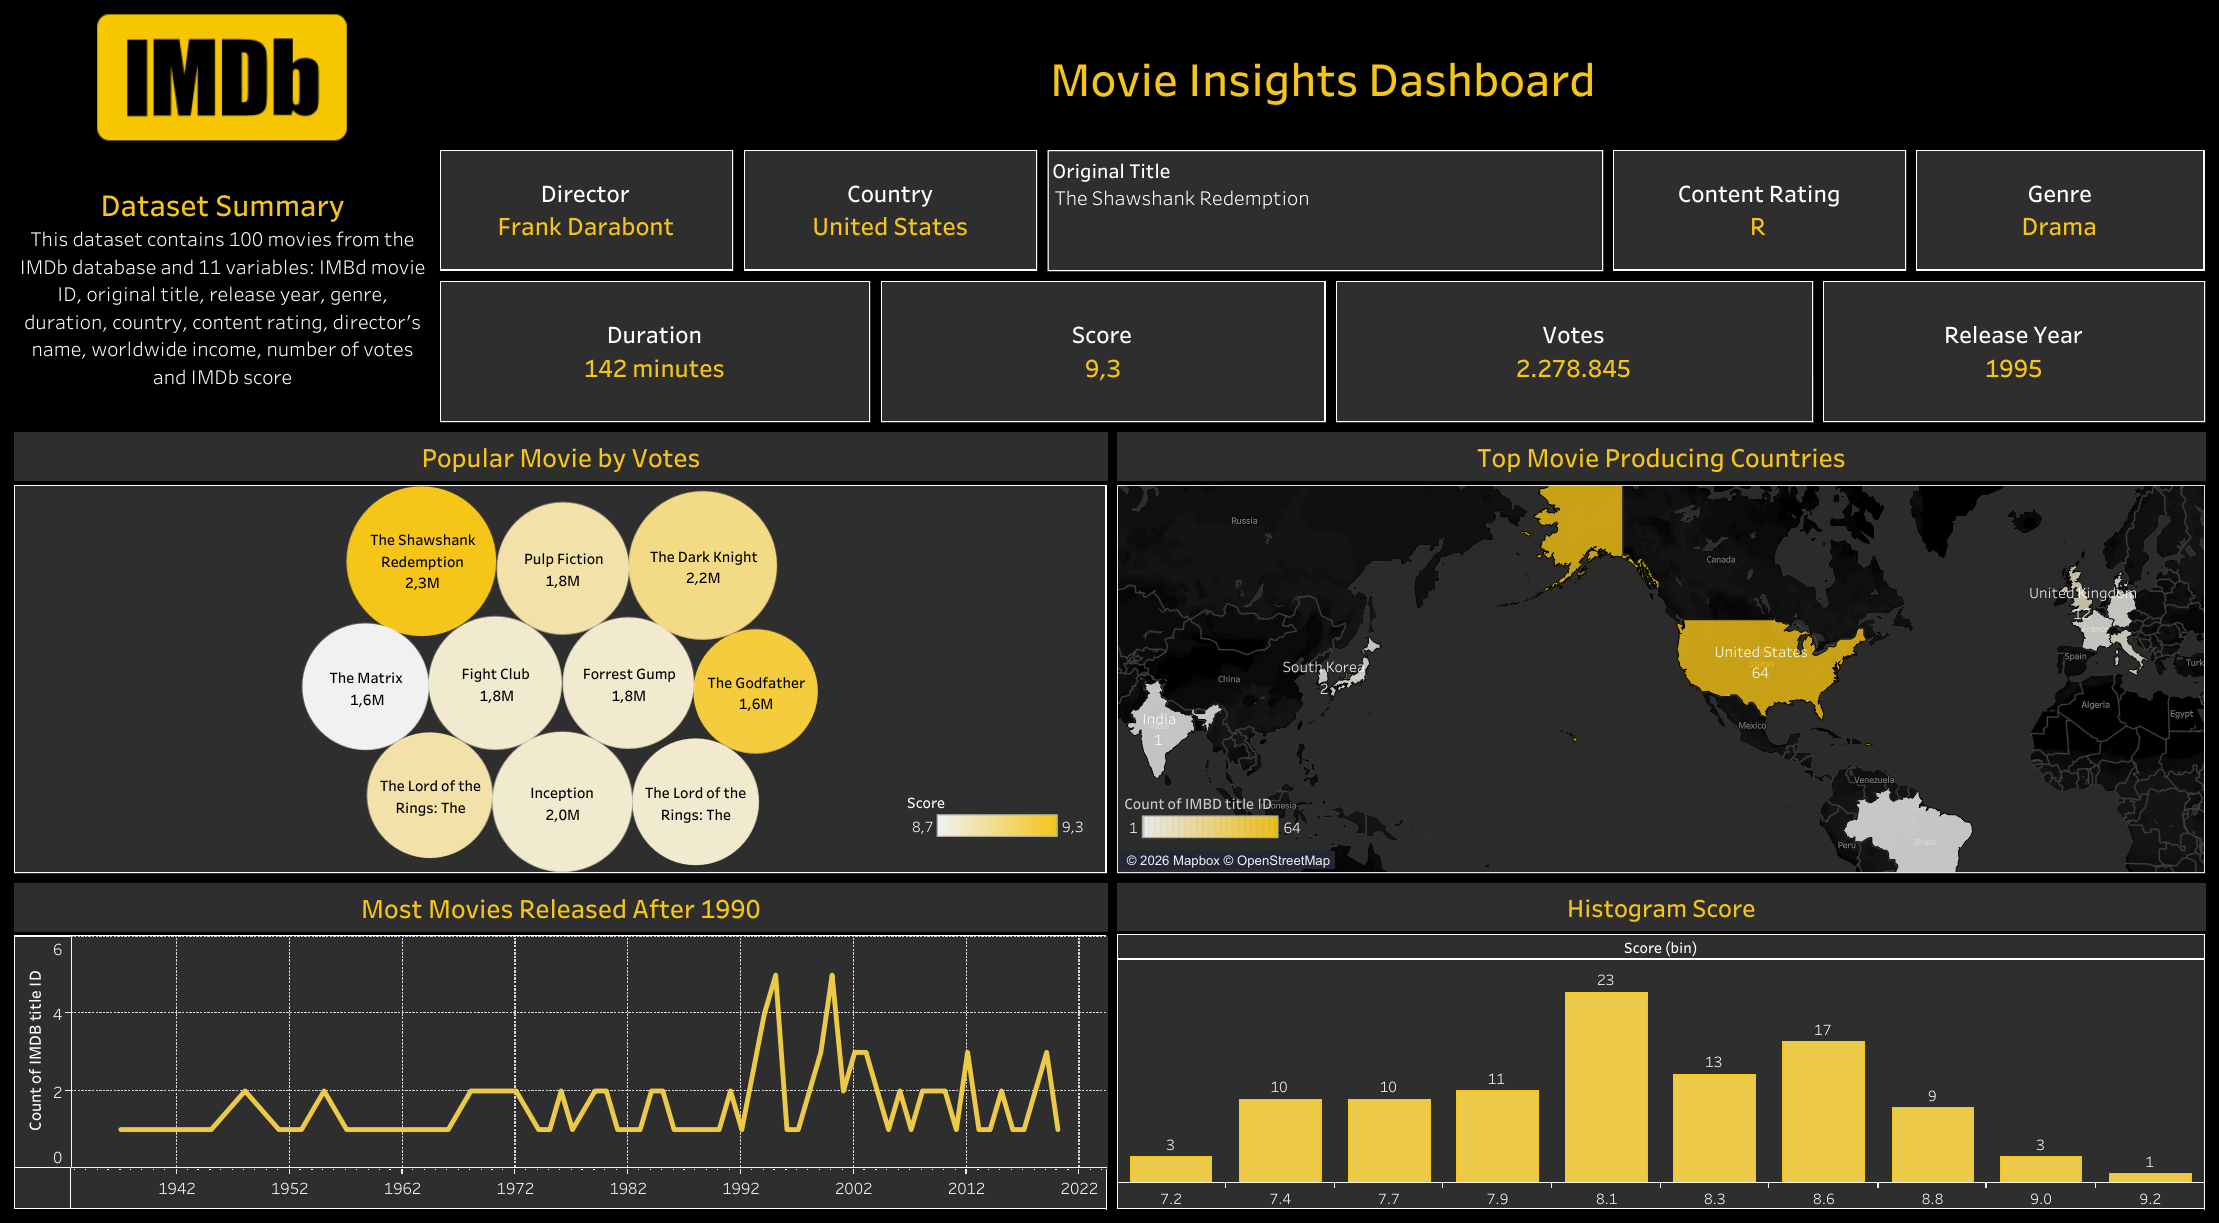

Layout of this report page (visuals, bound fields, positions):
{"tool":"tableau","page":{"name":"Dashboard 1","canvas":[1850,1020],"ordinal":0},"visuals":[{"type":"image","param":"Image/IMDB_Logo_2016.svg","box":[8,8,355,113]},{"type":"text","box":[363,8,1479,113]},{"type":"text","box":[8,121,355,235]},{"type":"worksheet","title":"Director","mark":"Automatic","box":[363,121,253,109]},{"type":"worksheet","title":"Country 2","mark":"Automatic","box":[616,121,253,109]},{"type":"filter","title":"Director","param":"[federated.1gwa3w41aw815j1bzqskc1bx670o].[none:Original Title:nk]","box":[869,121,471,109]},{"type":"worksheet","title":"Content Rating","mark":"Automatic","box":[1340,121,253,109]},{"type":"worksheet","title":"Genre","mark":"Automatic","box":[1593,121,249,109]},{"type":"worksheet","title":"Duration","mark":"Automatic","box":[363,230,367,126]},{"type":"worksheet","title":"Score","mark":"Automatic","box":[730,230,379,126]},{"type":"worksheet","title":"Votes","mark":"Automatic","box":[1109,230,406,126]},{"type":"worksheet","title":"Year","mark":"Automatic","box":[1515,230,327,126]},{"type":"worksheet","title":"Popular Movie by Votes","mark":"Circle","box":[8,356,919.2,375.5]},{"type":"worksheet","title":"Country","mark":"Automatic","box":[927.2,356,914.8,375.5]},{"type":"legend","title":"Popular Movie by Votes","param":"[federated.1gwa3w41aw815j1bzqskc1bx670o].[sum:Score:qk]","box":[731,655,177,62]},{"type":"legend","title":"Country","param":"[federated.1gwa3w41aw815j1bzqskc1bx670o].[cnt:IMBD title ID:qk]","box":[937,656,152,58]},{"type":"worksheet","title":"Release Year","mark":"Automatic","rows":["IMBD title ID"],"cols":["Release year"],"box":[8,731.5,919.2,280.5]},{"type":"worksheet","title":"Histogram Score","mark":"Automatic","rows":["Score"],"cols":["Score (bin)"],"box":[927.2,731.5,914.8,280.5]}]}

Visuals, with their boxes in screenshot pixels (x1, y1, x2, y2), scaled from the page's 1850x1020 canvas onto the 2219x1223 screenshot:
image: (10,10,435,145)
text: (435,10,2209,145)
text: (10,145,435,427)
"Director" worksheet: (435,145,739,276)
"Country 2" worksheet: (739,145,1042,276)
"Director" filter: (1042,145,1607,276)
"Content Rating" worksheet: (1607,145,1911,276)
"Genre" worksheet: (1911,145,2209,276)
"Duration" worksheet: (435,276,876,427)
"Score" worksheet: (876,276,1330,427)
"Votes" worksheet: (1330,276,1817,427)
"Year" worksheet: (1817,276,2209,427)
"Popular Movie by Votes" worksheet (Circle marks): (10,427,1112,877)
"Country" worksheet: (1112,427,2209,877)
"Popular Movie by Votes" legend: (877,785,1089,860)
"Country" legend: (1124,787,1306,856)
"Release Year" worksheet: (10,877,1112,1213)
"Histogram Score" worksheet: (1112,877,2209,1213)
